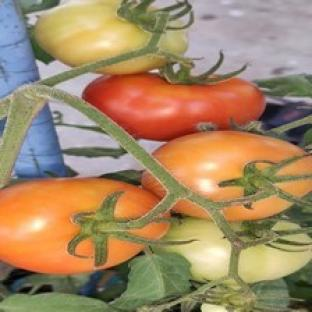Tomato: (0, 179, 158, 274), (83, 73, 266, 140), (154, 131, 311, 201), (155, 218, 231, 281), (201, 304, 227, 311)
